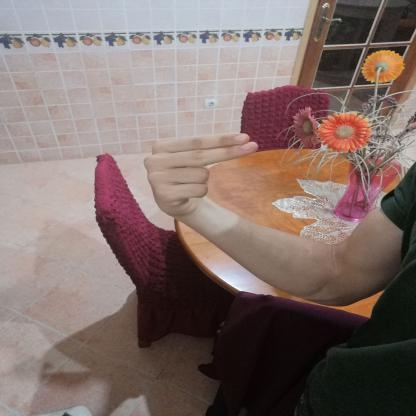AYN: (127, 124, 270, 228)
